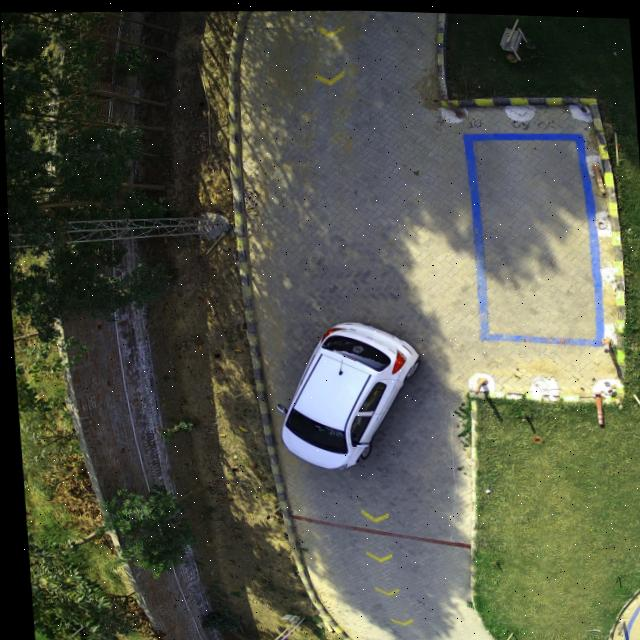car: (278, 318, 418, 468)
